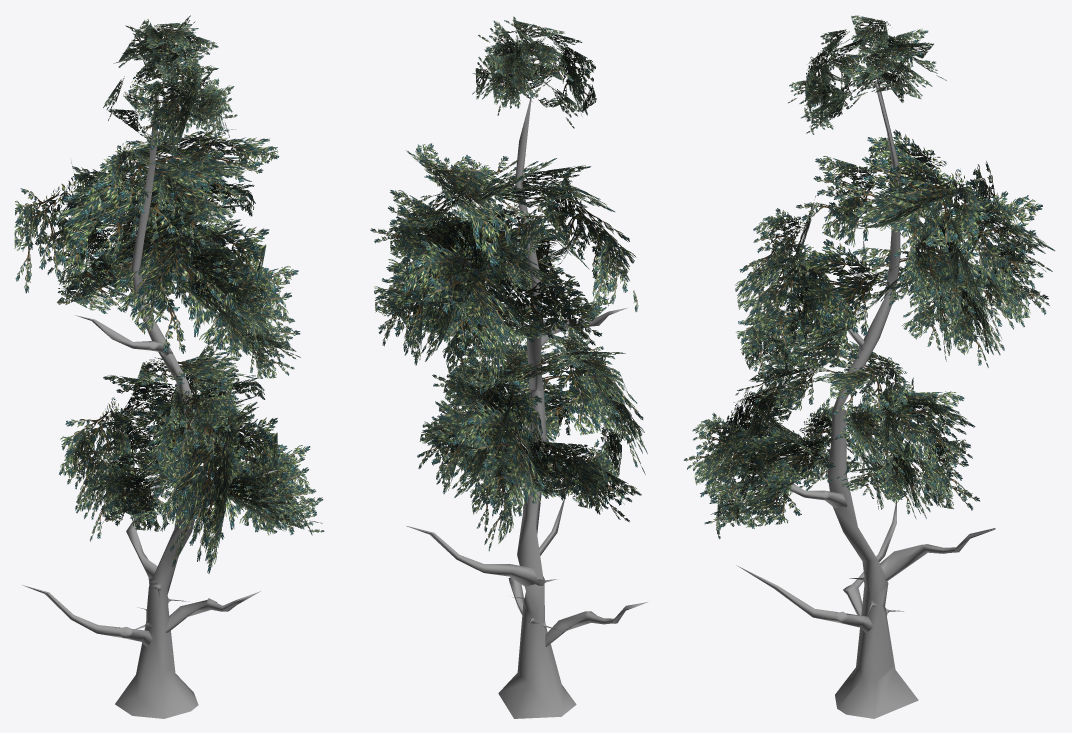
Rendered from elmtree_lod2.fbx.
The picture shows the model from 3 angles, left to right: view 1: azimuth 30°, elevation 25°; view 2: azimuth 150°, elevation 25°; view 3: azimuth 270°, elevation 25°; orthographic projection.
Visible parts, largest first — view 1: Default_Layer; view 2: Default_Layer; view 3: Default_Layer.
Boxes of the visible parts, <box> form: Default_Layer: <box>14,15,324,718</box>; Default_Layer: <box>370,16,647,718</box>; Default_Layer: <box>683,15,1055,718</box>.
Bounding box in the file's own units: 601 × 1523 × 761.
